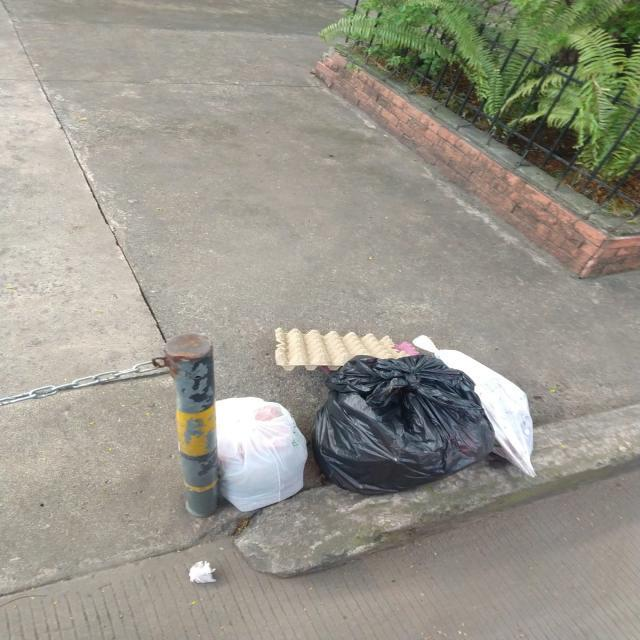Trashbag: (303, 336, 495, 496)
